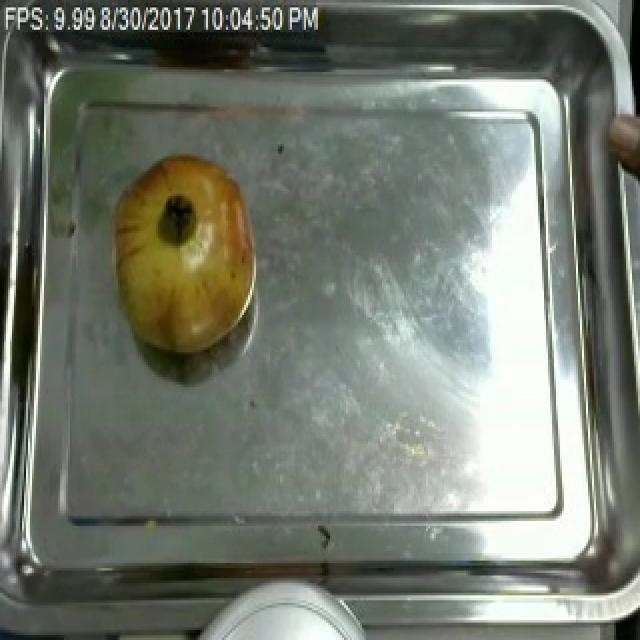fruit: (100, 142, 262, 367), (606, 94, 640, 196)
